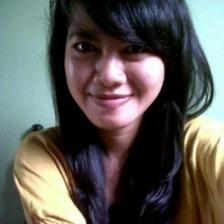Non hijab: (45, 1, 210, 224)
